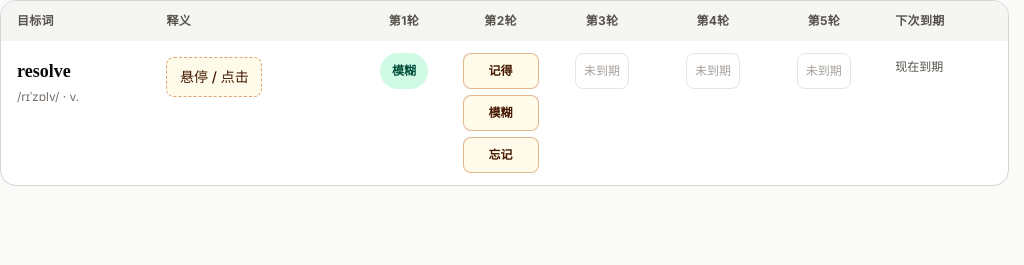
Test: StoryReviewTable › announces submission failures and preserves the due row state for retry
Click the button with aria-label "resolve 第2轮：忘记". click: click(501, 155)
box: top-left (463, 137), bottom-right (538, 173)
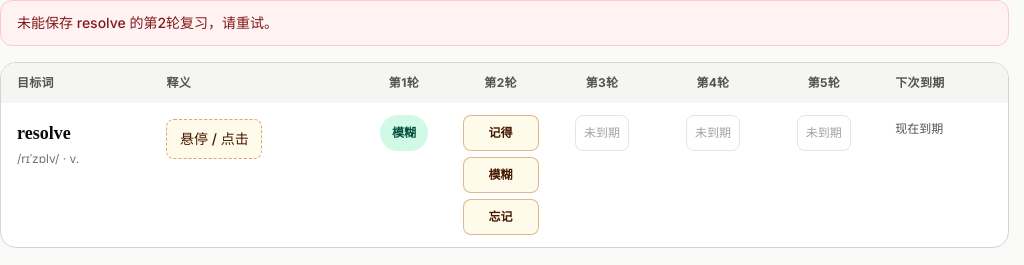
Expected: the cell "模糊" is shown, top-left (353, 103), bottom-right (455, 247)
Expected: the message shows "未能保存 resolve 的第2轮复习", top-left (17, 14), bottom-right (278, 31)
